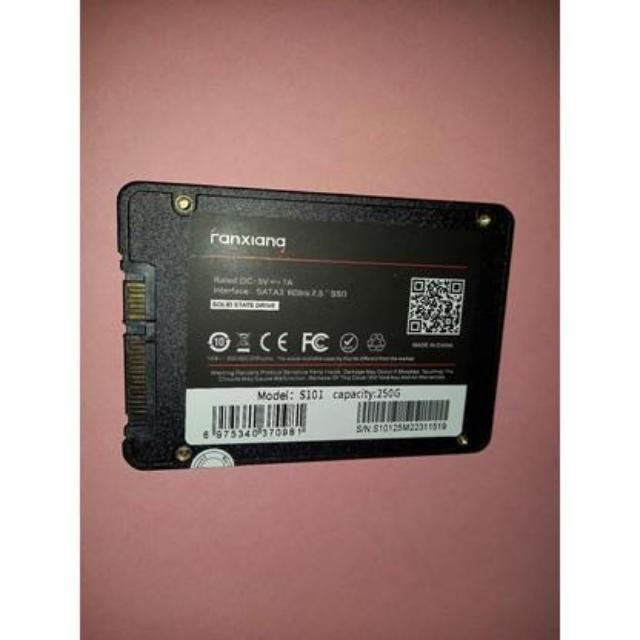DISK: (118, 174, 513, 476)
